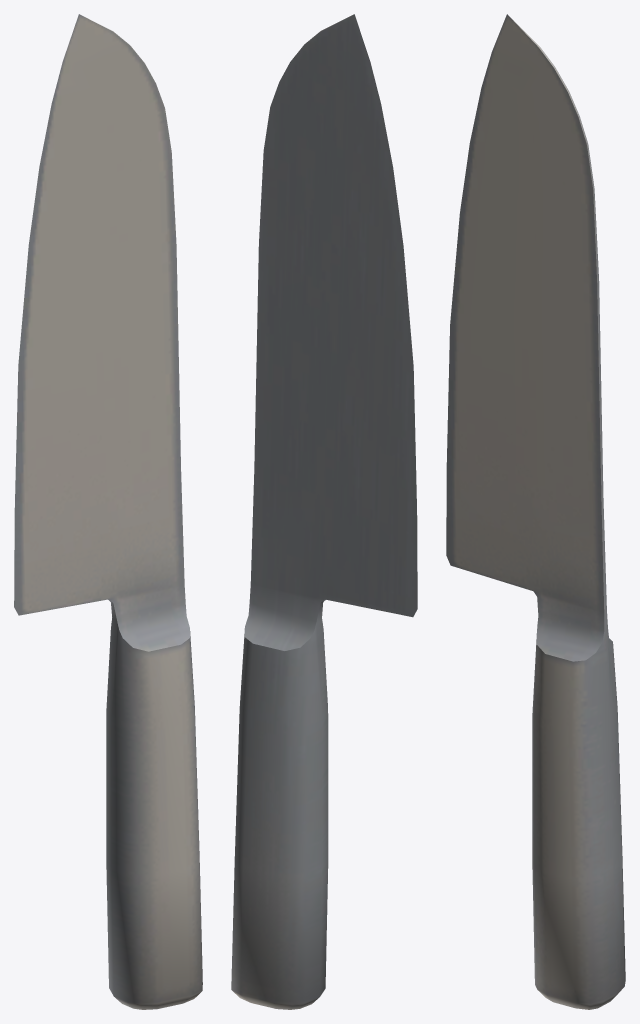
Rendered from SM_Knife_03.glb.
3 views of the same model, side by side, from view 1: azimuth 30°, elevation 25°; view 2: azimuth 150°, elevation 25°; view 3: azimuth 330°, elevation 25° (orthographic). The views are drawn at different scales.
Parts seen in each view (by area): view 1: SM_Knife_03; view 2: SM_Knife_03; view 3: SM_Knife_03.
Boxes of the visible parts, left/top/right/bottom form: SM_Knife_03: left=14, top=14, right=202, bottom=1009; SM_Knife_03: left=231, top=14, right=417, bottom=1009; SM_Knife_03: left=446, top=14, right=625, bottom=1009.
Bounding box in the file's own units: 0.0659 × 0.3546 × 0.0253.
1 material, 1 textured.
